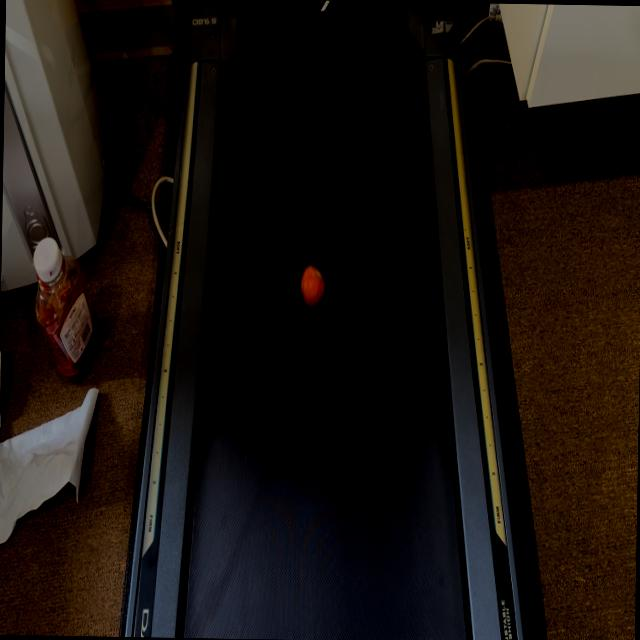Trash: (299, 265, 326, 307)
